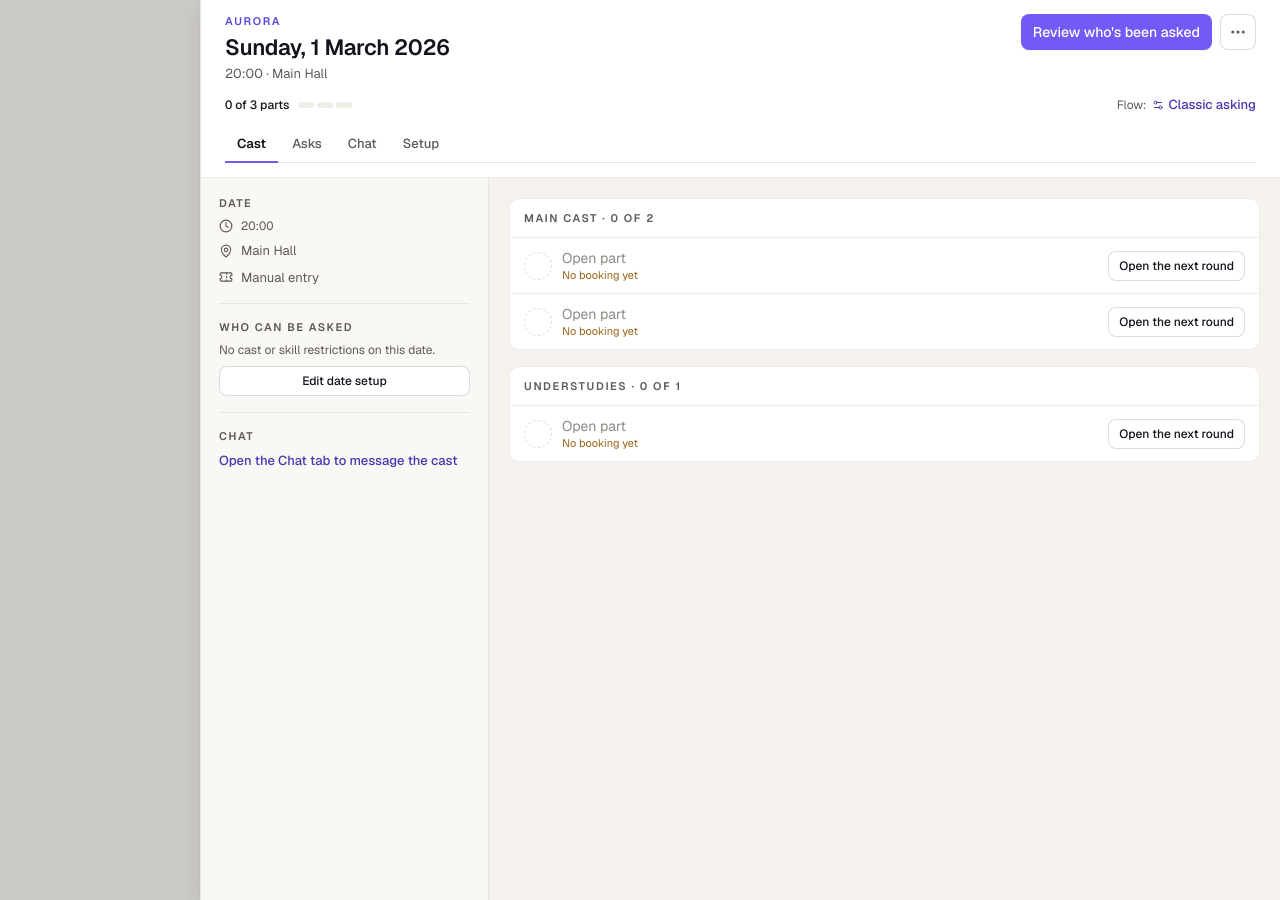
Scenario: ShowDateDetailSheet capability gates › manage_show_dates off: Edit schedule is disabled, the date still reads
Click the button "Setup": (421, 145) [391, 127, 451, 163]
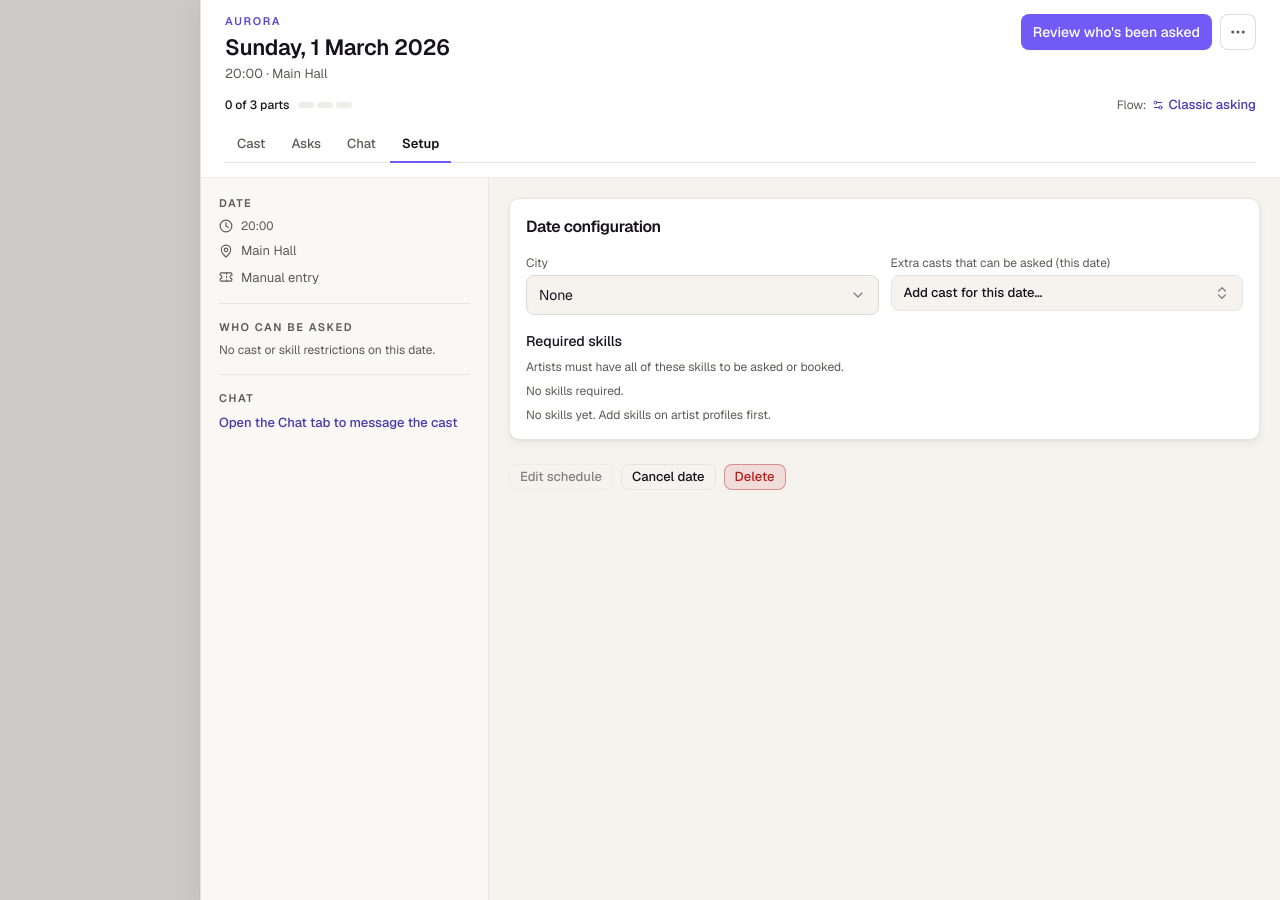
Expected: the text "Main Hall" is shown, [219, 242, 296, 259]
Expected: the button "Edit schedule" is disabled, [509, 464, 613, 490]
